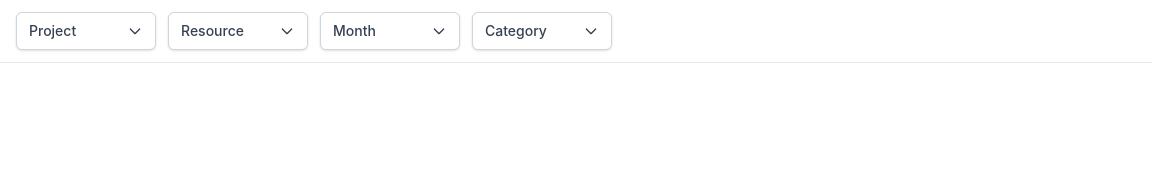
Scenario: FilterBar › clearing filters › removes a single filter when chip x is clicked
Note: Add a filter
Click the button "Category" at coordinates (542, 31), box [472,12,612,50]
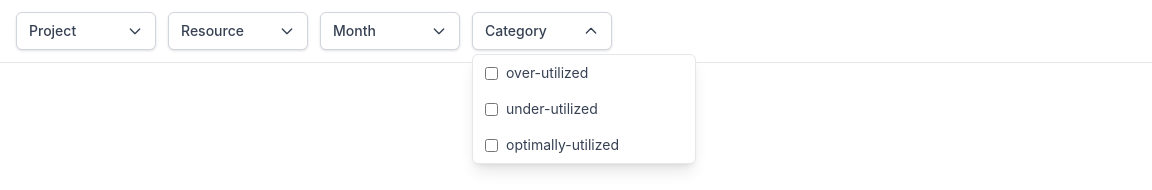
Click the checkbox labelled "over-utilized" at coordinates (492, 73), box [485,66,498,80]
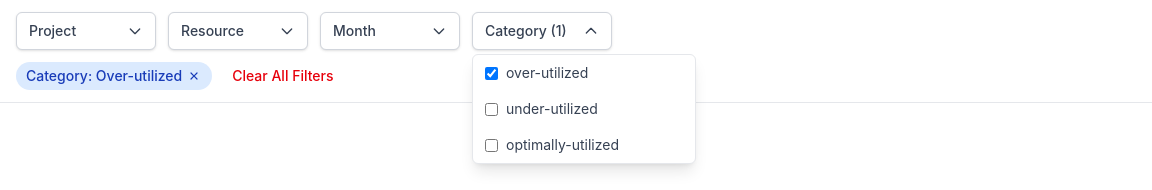
Note: Find and click the remove button on the chip
Click the button named "Remove filter: Category: Over-utilized" at coordinates (194, 76), box [186,68,202,84]
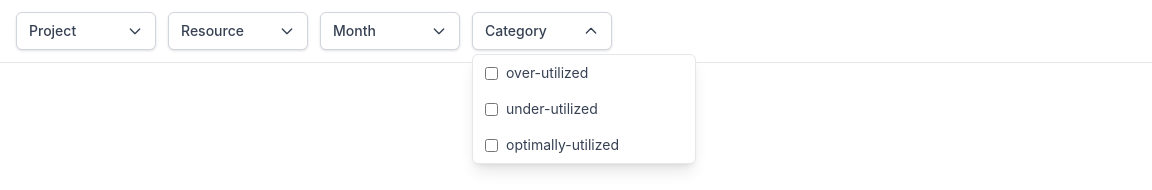
Expected: the text "Category: Over-utilized" is gone
Expected: the element with test id "filter-chips" is gone
